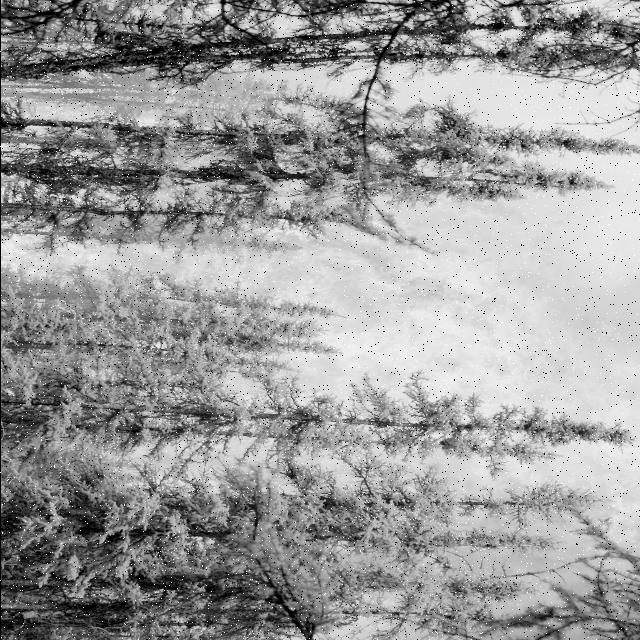api: (292, 224, 640, 412), (1, 238, 292, 298), (455, 450, 640, 534), (465, 541, 640, 590), (132, 443, 288, 483), (404, 191, 520, 218), (7, 94, 105, 119)
